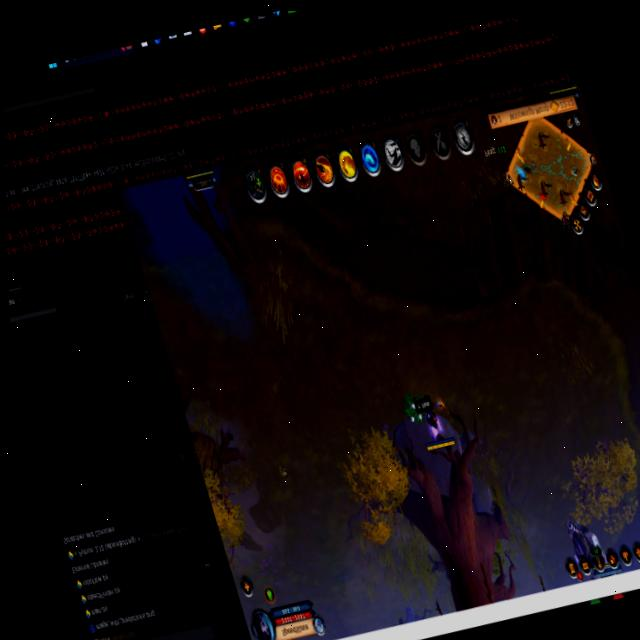hide: (394, 376, 433, 433)
red: (410, 383, 461, 460), (583, 547, 630, 585), (546, 80, 584, 118), (183, 168, 223, 197)
